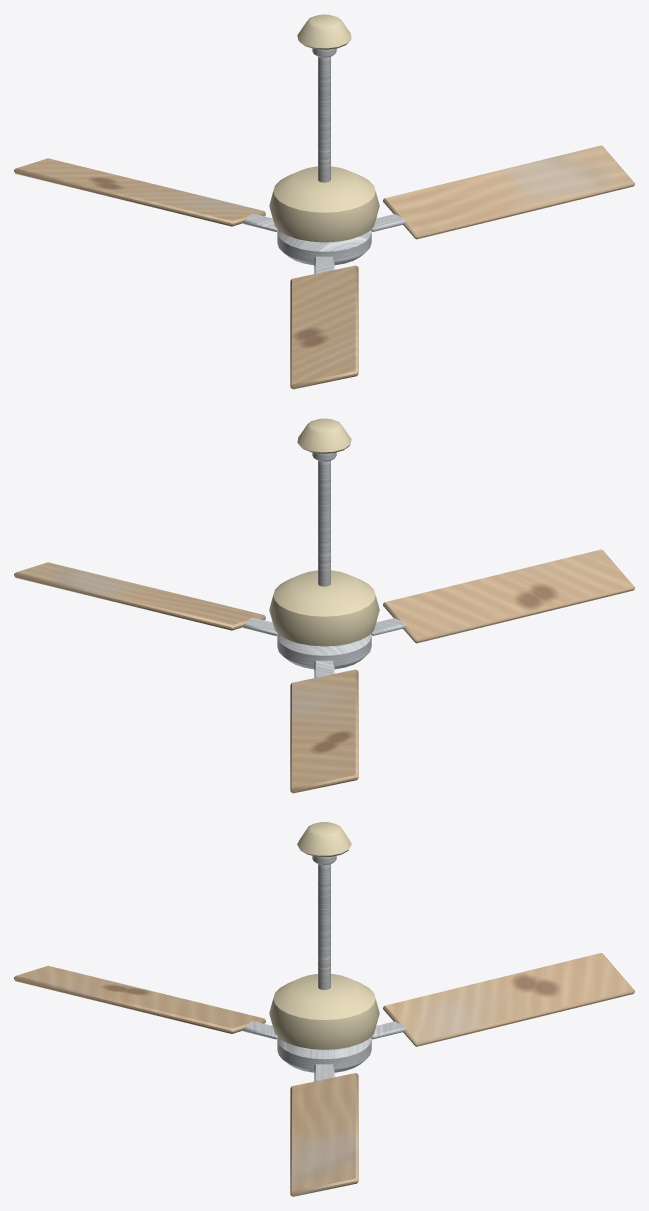
File: ceiling_fan.glb
The picture shows the model from 3 angles, top to bottom: view 1: azimuth 30°, elevation 25°; view 2: azimuth 150°, elevation 25°; view 3: azimuth 270°, elevation 25°; orthographic projection.
Visible parts, largest first — view 1: FAN_rotor, ceiling_fan__paint_cream, ceiling_fan__steel_brushed; view 2: FAN_rotor, ceiling_fan__paint_cream, ceiling_fan__steel_brushed; view 3: FAN_rotor, ceiling_fan__paint_cream, ceiling_fan__steel_brushed.
Boxes of the visible parts, box(x1,y1,x2,y2) form: FAN_rotor: box(14, 145, 634, 389); ceiling_fan__paint_cream: box(269, 14, 379, 242); ceiling_fan__steel_brushed: box(312, 48, 336, 182); FAN_rotor: box(14, 549, 634, 793); ceiling_fan__paint_cream: box(269, 418, 379, 646); ceiling_fan__steel_brushed: box(312, 452, 336, 586); FAN_rotor: box(14, 953, 634, 1196); ceiling_fan__paint_cream: box(269, 822, 379, 1049); ceiling_fan__steel_brushed: box(312, 856, 336, 989).
Bounding box in the file's own units: 1.31 × 0.645 × 1.52.
Materials: 4 (2 with a texture image).
